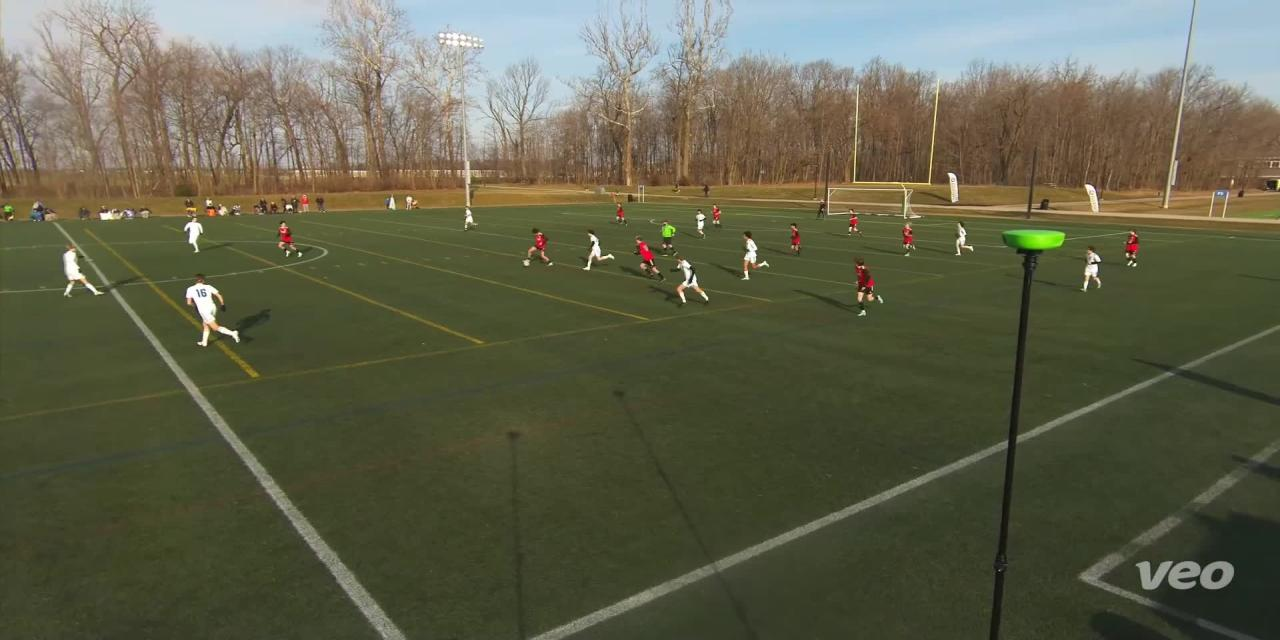sports ball: (520, 256, 533, 270)
